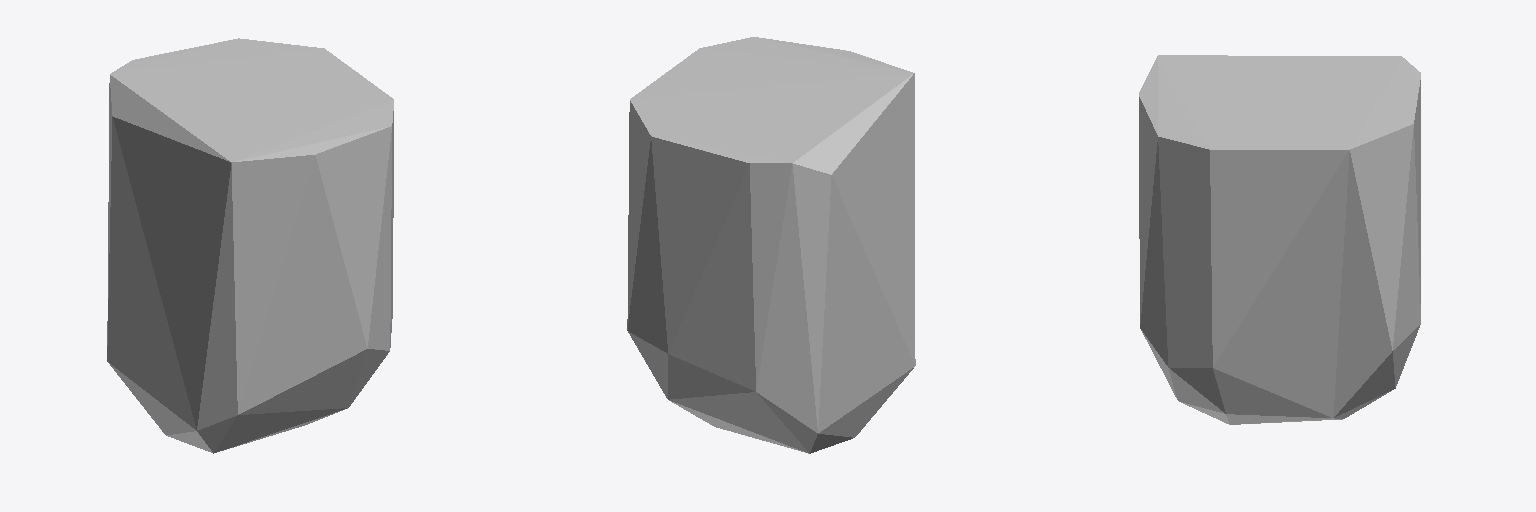
Rendered from white_tip_thumb.obj.
The picture shows the model from 3 angles: view 1: azimuth 30°, elevation 25°; view 2: azimuth 150°, elevation 25°; view 3: azimuth 270°, elevation 25°; orthographic projection.
Size of the model in its own units: 0.0205 by 0.0301 by 0.0243.